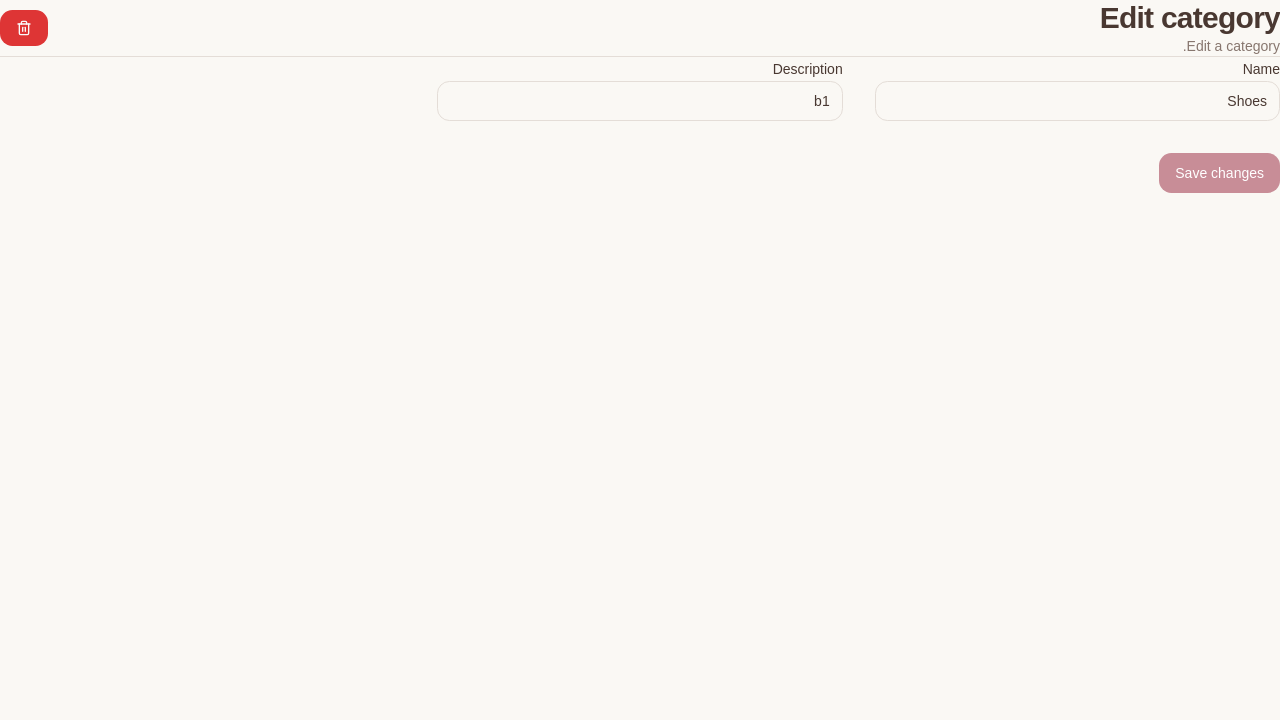
it: admin form upload and delete wiring › category form delete closes the modal
Click the 1st button at coordinates (24, 28), box [0, 10, 48, 46]
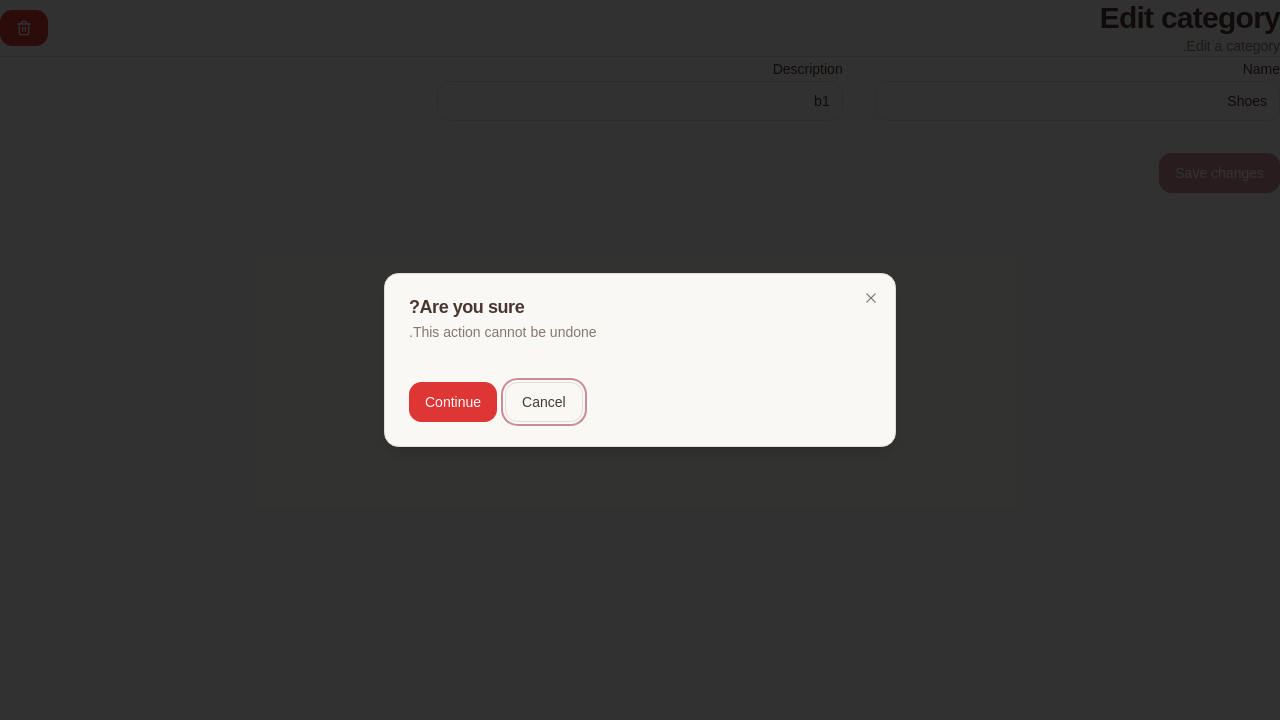
Click the button "Cancel" at coordinates (544, 402), box [505, 382, 583, 422]
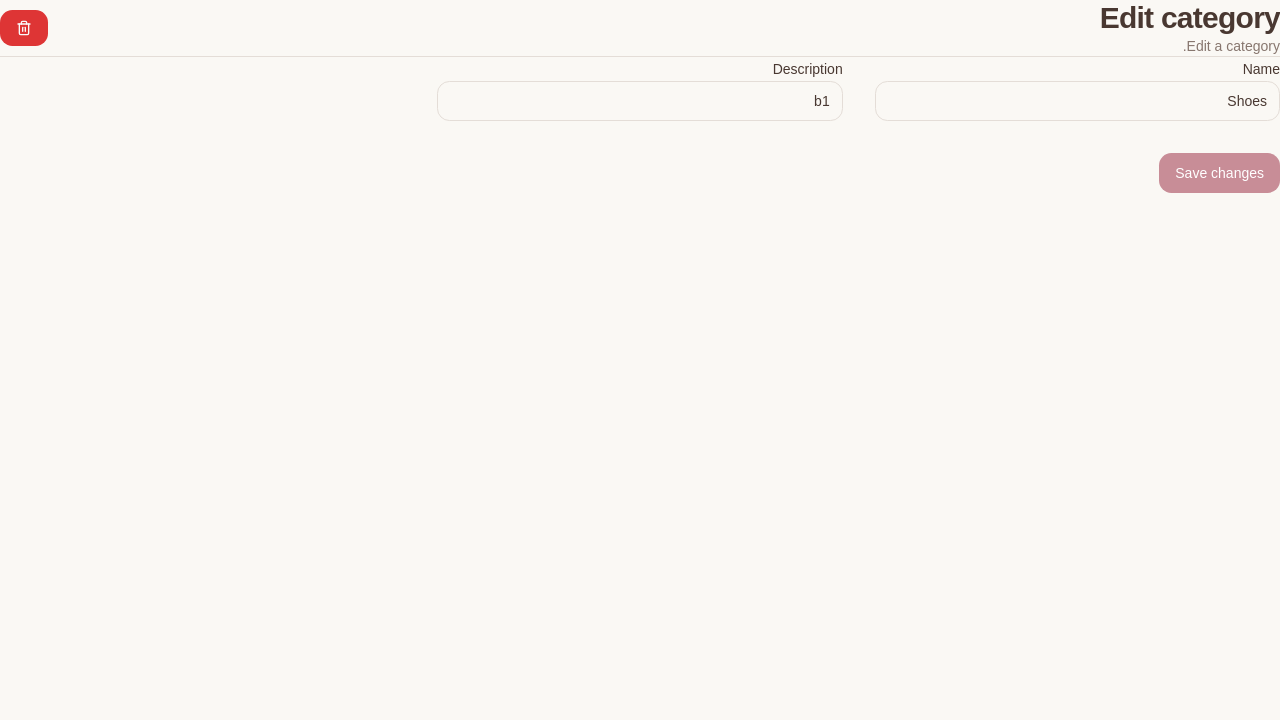
Check: the button "Continue" is gone
